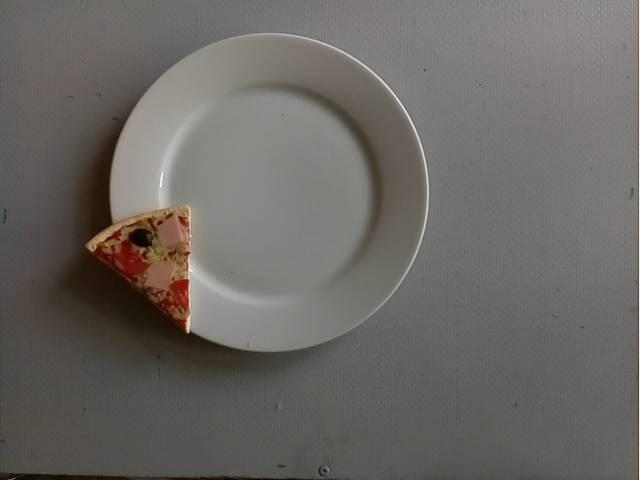Pizza slice (ham): (89, 204, 192, 332)
